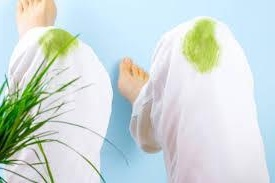earth: (183, 21, 218, 72), (43, 31, 71, 52)
